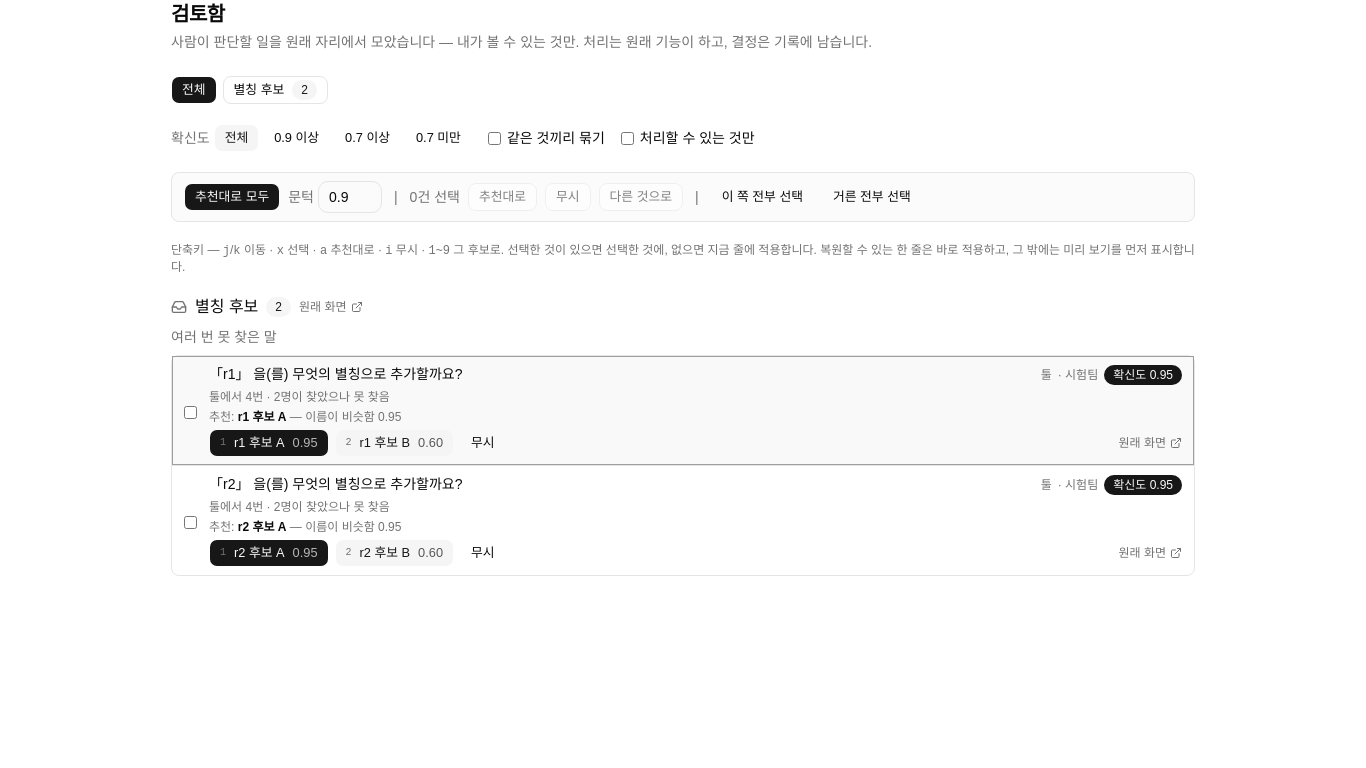
검토함 › 큰 묶음은 작업으로 돌고 끝나면 결과를 말한다
Expected: the text "「r1」 을(를) 무엇의 별칭으로 추가할까요?" is shown, x1=209 y1=364 x2=462 y2=384
Click the button "추천대로 모두": (232, 197) x1=184 y1=183 x2=280 y2=211
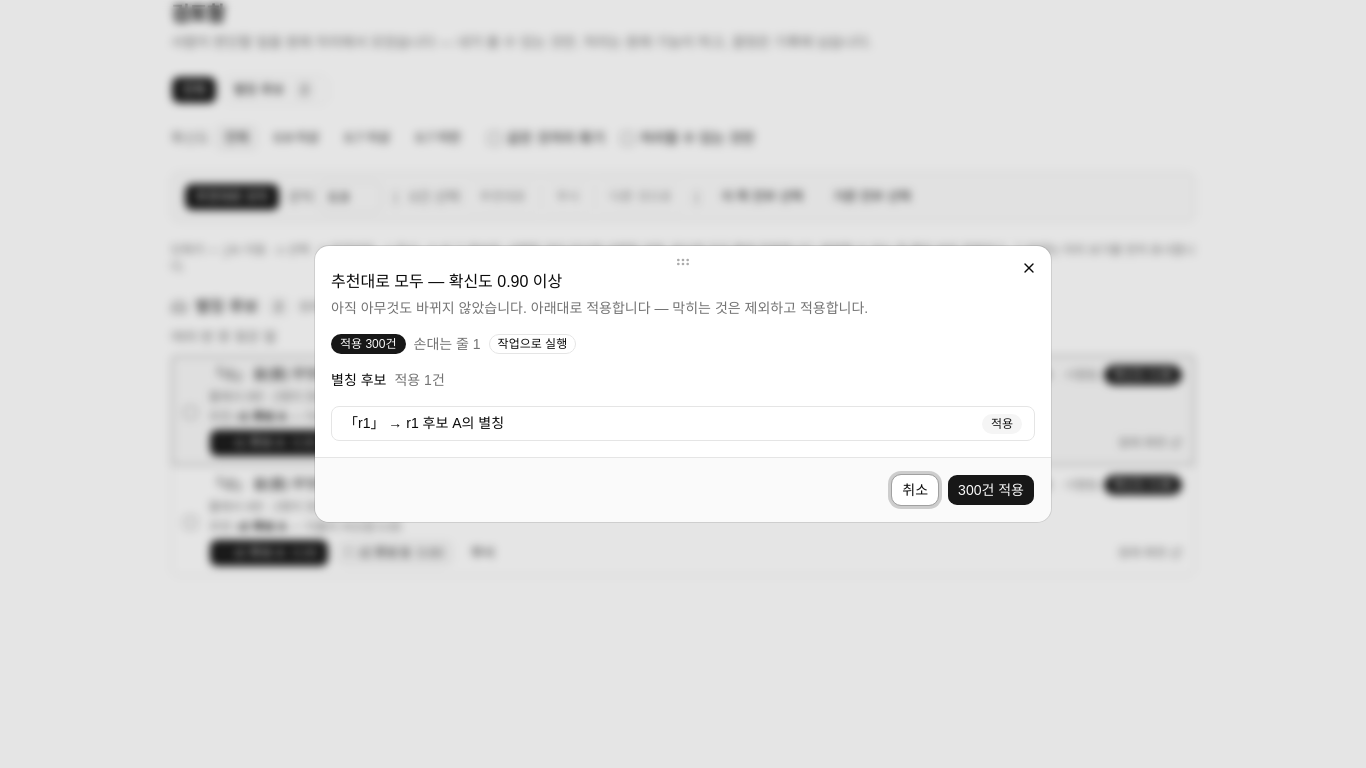
Expected: the text "작업으로 실행" is shown, x1=489 y1=334 x2=576 y2=354
Click the button "300건 적용": (991, 490) x1=947 y1=474 x2=1035 y2=506
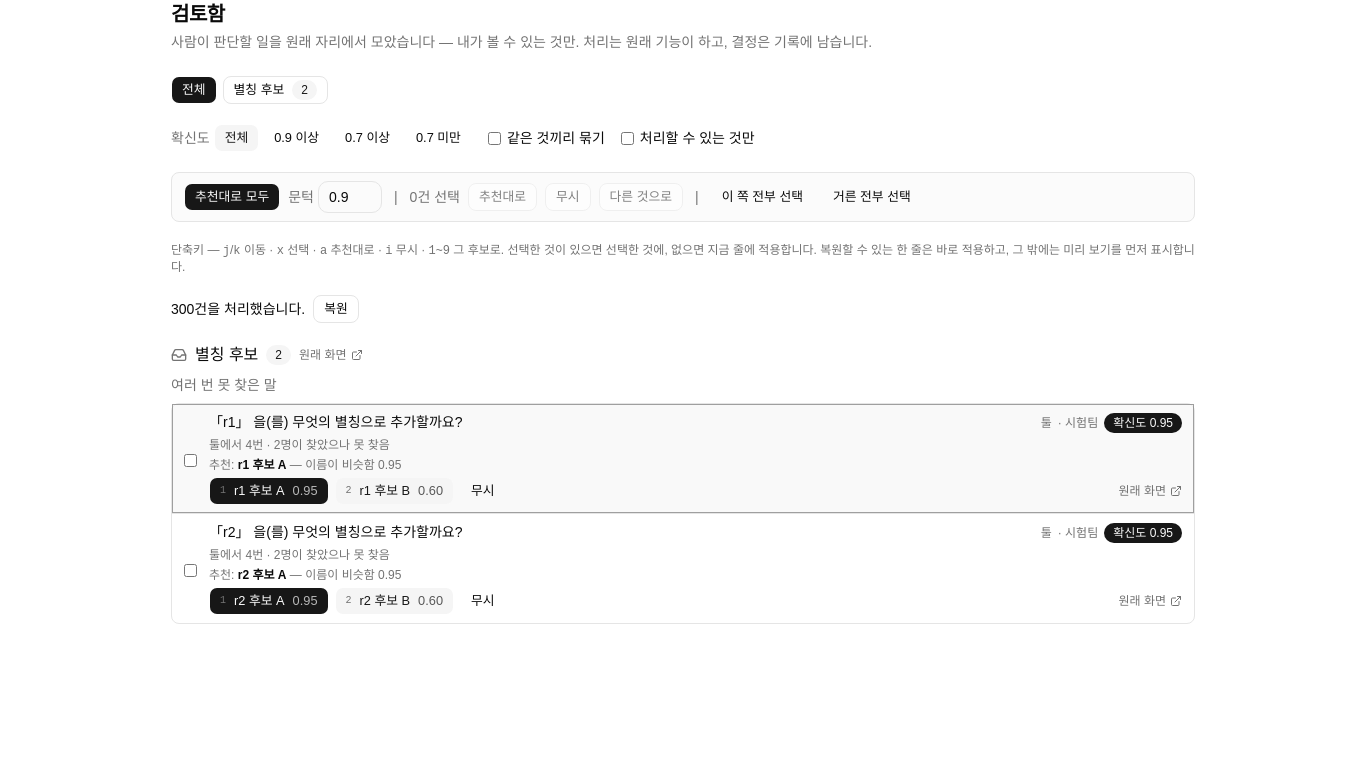
Expected: the text "300건을 처리했습니다." is shown, x1=171 y1=301 x2=305 y2=317
Expected: the button "복원" is shown, x1=313 y1=295 x2=359 y2=323
